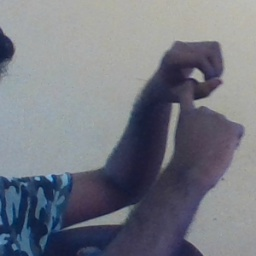Q: (145, 37, 247, 177)
